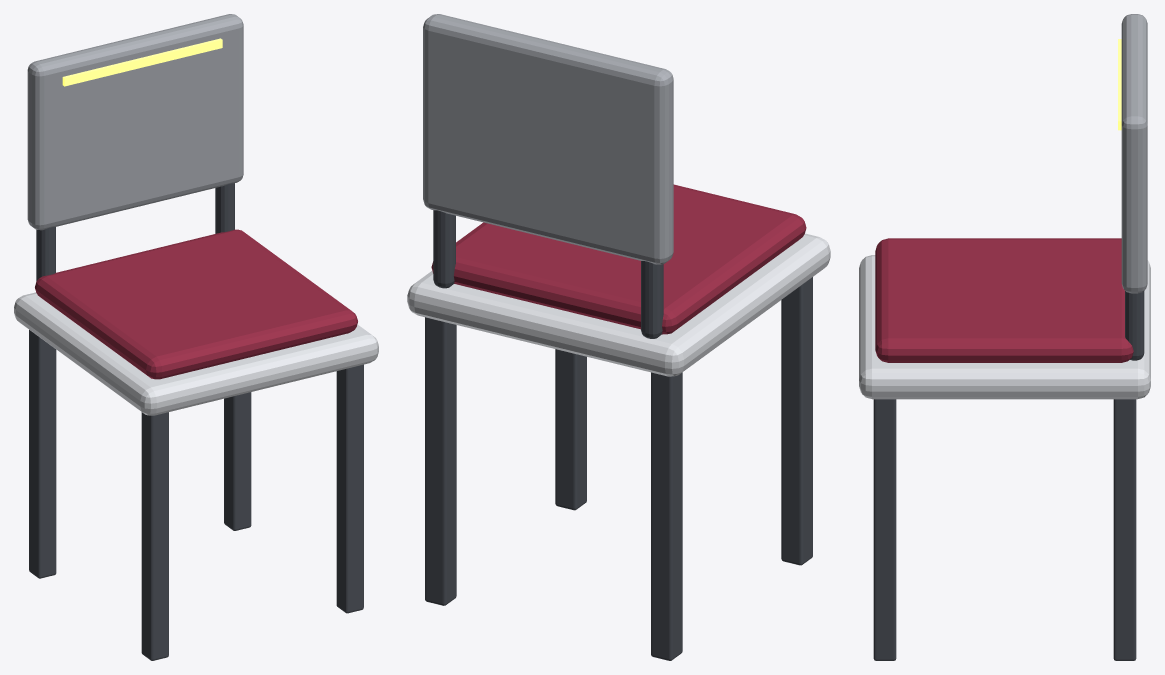
The model's file is dining_chair_stool_back.glb.
The picture shows the model from 3 angles, left to right: view 1: azimuth 30°, elevation 25°; view 2: azimuth 150°, elevation 25°; view 3: azimuth 270°, elevation 25°; orthographic projection. The views are drawn at different scales.
Parts seen in each view (by area): view 1: GD_dining_chair_stool_back__m3, GD_dining_chair_stool_back__m2, GD_dining_chair_stool_back__m0, GD_dining_chair_stool_back__m1, GD_dining_chair_stool_back__m4; view 2: GD_dining_chair_stool_back__m3, GD_dining_chair_stool_back__m0, GD_dining_chair_stool_back__m2, GD_dining_chair_stool_back__m1; view 3: GD_dining_chair_stool_back__m2, GD_dining_chair_stool_back__m0, GD_dining_chair_stool_back__m1, GD_dining_chair_stool_back__m3.
Part boxes in pixels (box(x1,y1,x2,y2)): GD_dining_chair_stool_back__m3: box(27, 14, 243, 230); GD_dining_chair_stool_back__m2: box(35, 229, 357, 379); GD_dining_chair_stool_back__m0: box(29, 183, 363, 660); GD_dining_chair_stool_back__m1: box(14, 292, 378, 415); GD_dining_chair_stool_back__m4: box(62, 38, 222, 86); GD_dining_chair_stool_back__m3: box(423, 14, 673, 264); GD_dining_chair_stool_back__m0: box(425, 210, 812, 660); GD_dining_chair_stool_back__m2: box(431, 184, 806, 334); GD_dining_chair_stool_back__m1: box(407, 233, 830, 376); GD_dining_chair_stool_back__m2: box(875, 238, 1133, 362); GD_dining_chair_stool_back__m0: box(873, 291, 1144, 660); GD_dining_chair_stool_back__m1: box(859, 255, 1150, 399); GD_dining_chair_stool_back__m3: box(1121, 14, 1147, 293).
Size of the model in its own units: 0.45 by 0.92 by 0.45.
